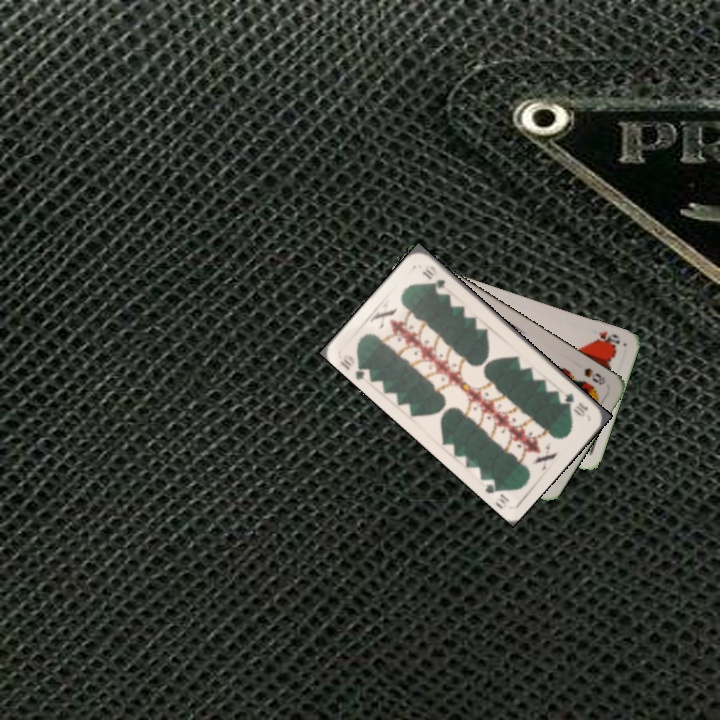G10: (336, 351, 373, 382), (560, 388, 591, 419)
HO: (589, 327, 623, 349)
S8: (580, 364, 608, 387)
